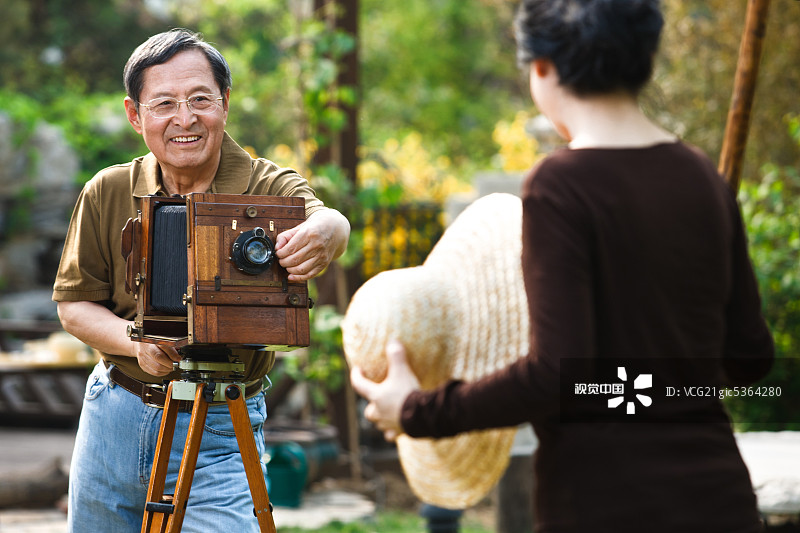no-phone: (338, 331, 437, 446), (271, 196, 357, 287), (118, 319, 191, 381)
